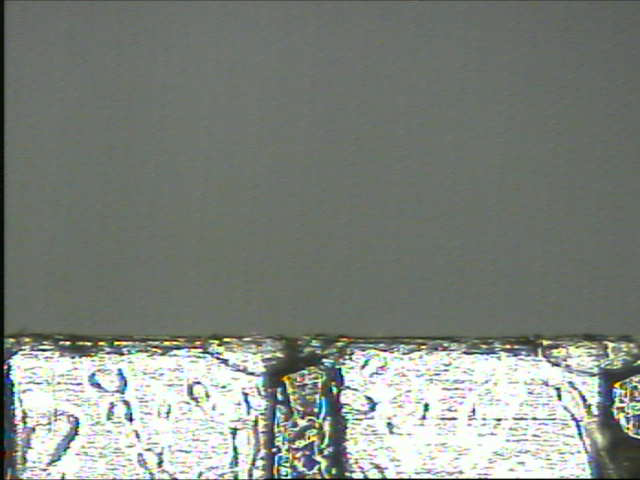line: (263, 349, 350, 475)
